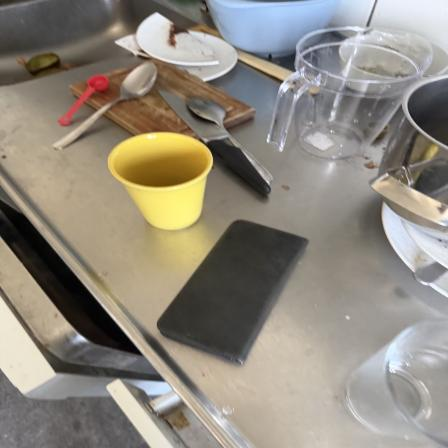phone: (160, 219, 311, 368)
yellow_cup: (108, 129, 214, 233)
